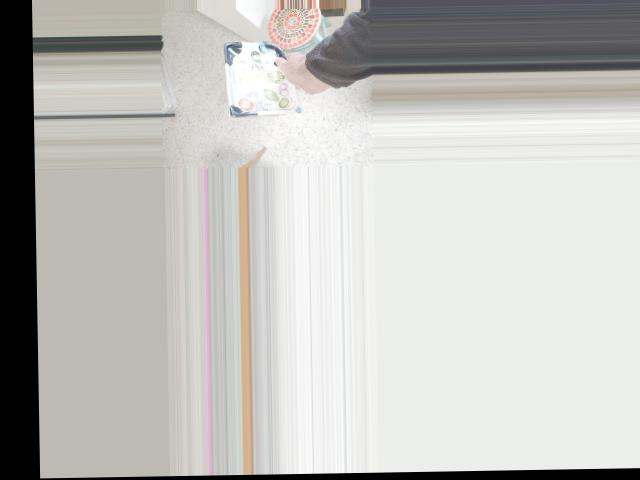cheese: (227, 31, 324, 127)
